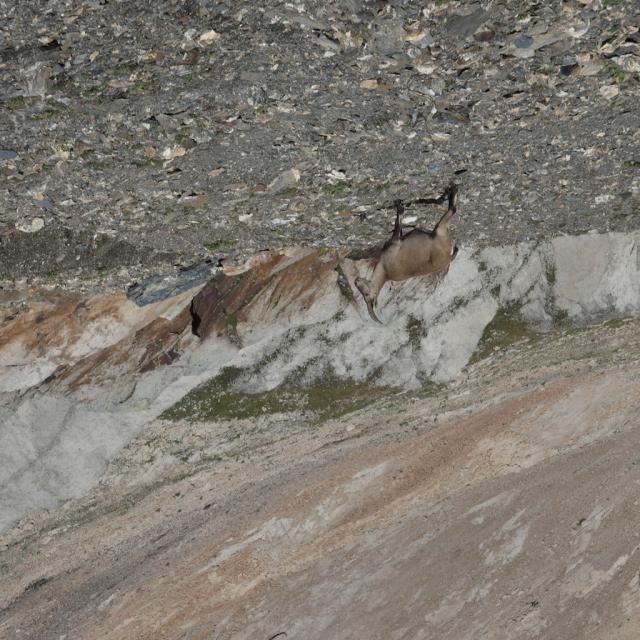Goat: (353, 183, 460, 327)
